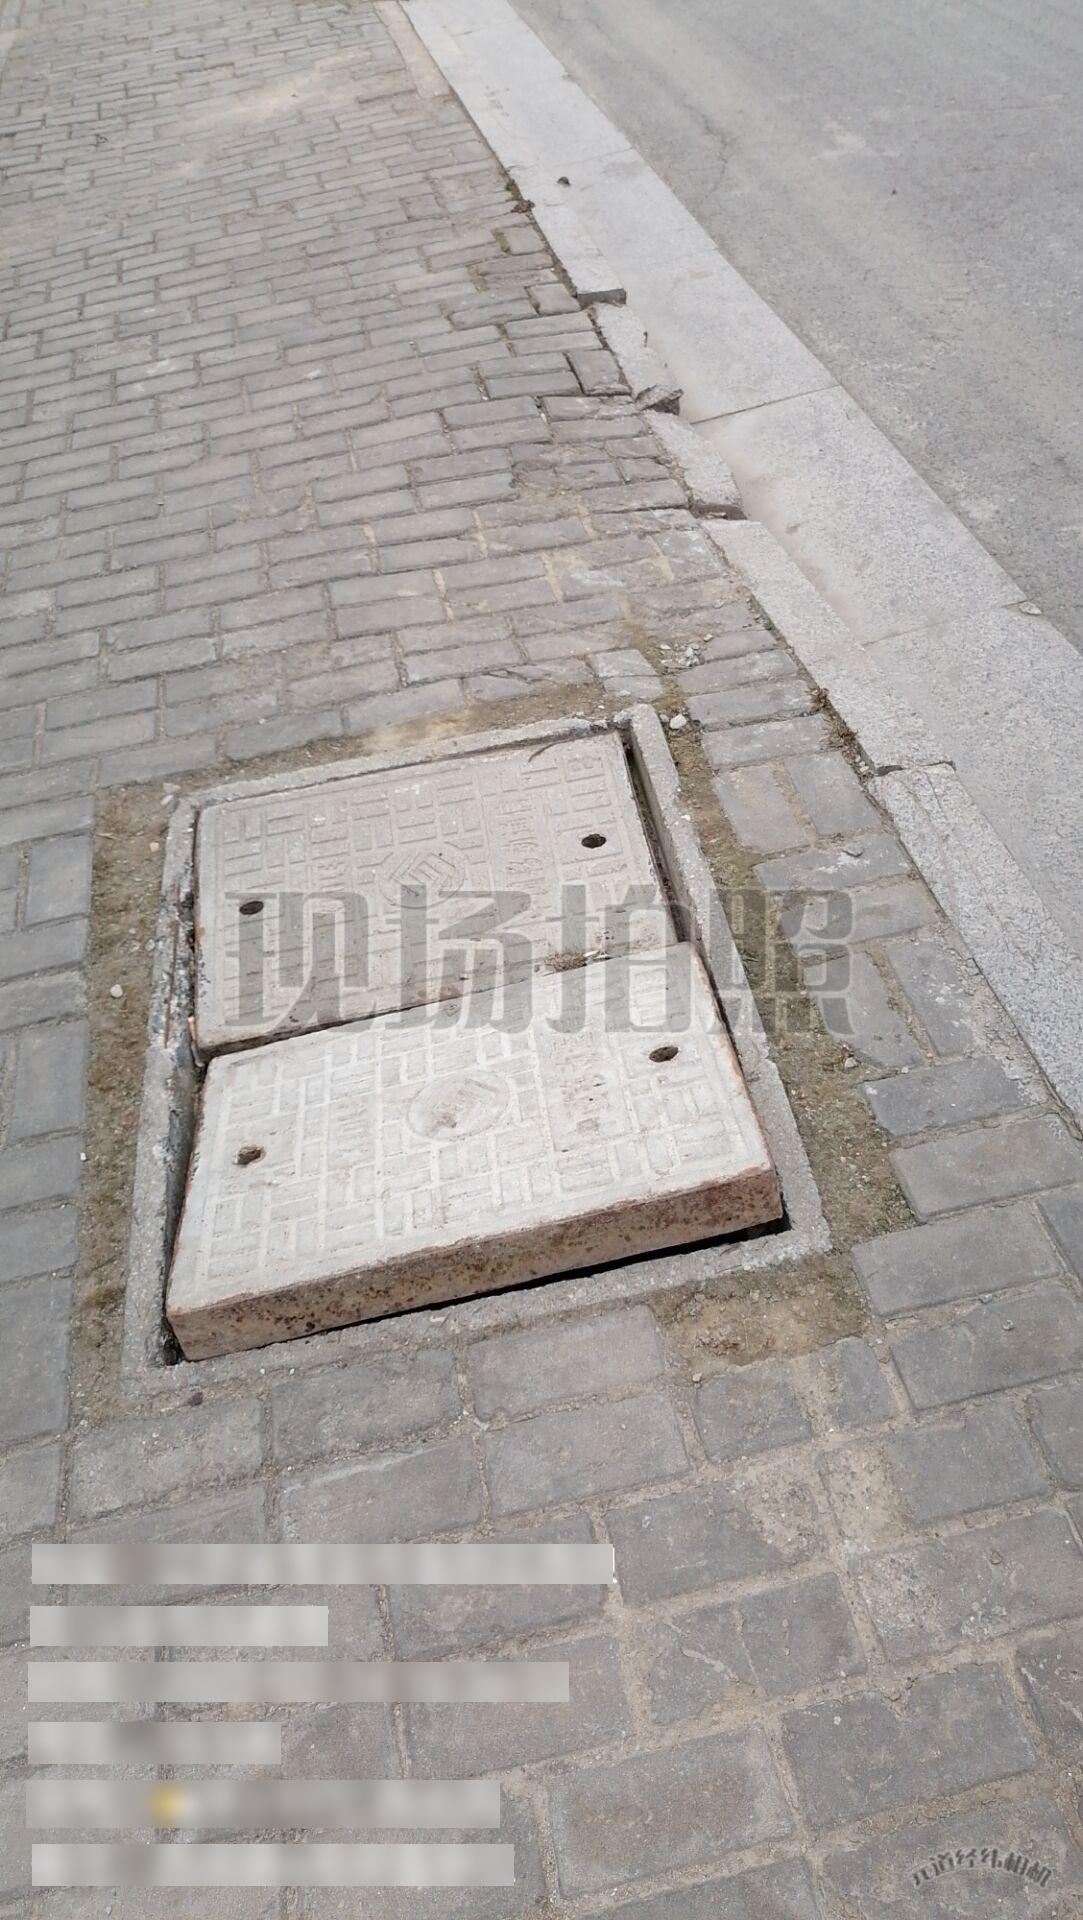wellcover: (124, 735, 820, 1365)
